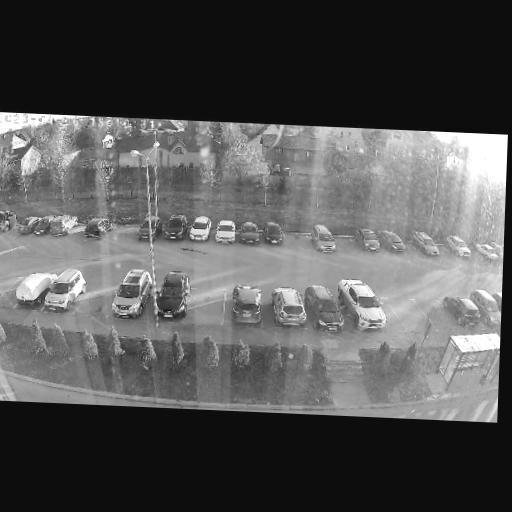busy: (105, 267, 154, 318), (338, 282, 390, 330), (151, 271, 196, 319), (39, 269, 87, 314), (308, 288, 352, 331), (224, 285, 269, 325), (271, 290, 313, 326), (446, 294, 491, 327), (9, 274, 52, 307), (473, 291, 500, 327), (411, 232, 449, 257), (309, 227, 344, 253), (39, 214, 75, 237), (375, 231, 411, 253), (160, 214, 190, 240), (353, 229, 386, 252), (186, 216, 215, 241), (260, 222, 290, 246), (211, 221, 240, 245), (445, 237, 477, 258), (236, 223, 264, 246), (83, 220, 115, 240), (16, 217, 47, 237), (475, 242, 503, 261)
free: (186, 287, 229, 326), (85, 283, 111, 319), (397, 300, 423, 332), (0, 273, 19, 310), (288, 227, 312, 252), (379, 300, 397, 329), (426, 301, 445, 328), (118, 224, 140, 242), (466, 245, 482, 262), (435, 240, 450, 258)
